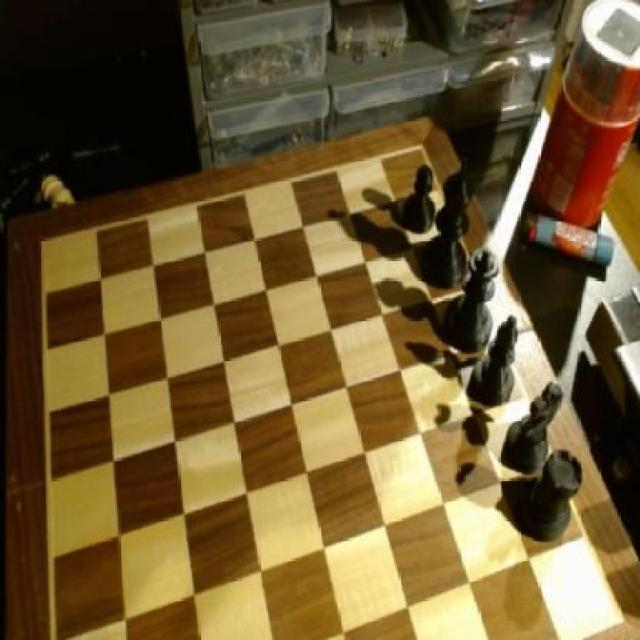bishop: (465, 316, 523, 408)
black-bishop: (425, 162, 476, 289)
black-king: (506, 382, 565, 480)
black-knight: (403, 157, 439, 240)
black-pawn: (446, 247, 502, 356)
black-queen: (522, 445, 586, 543)
